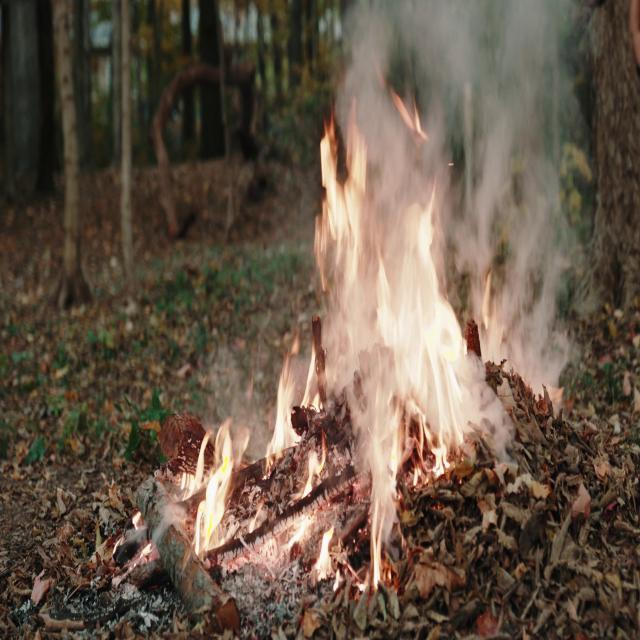Fire: (302, 108, 488, 610), (181, 340, 351, 588)
Smoke: (443, 0, 592, 408)
